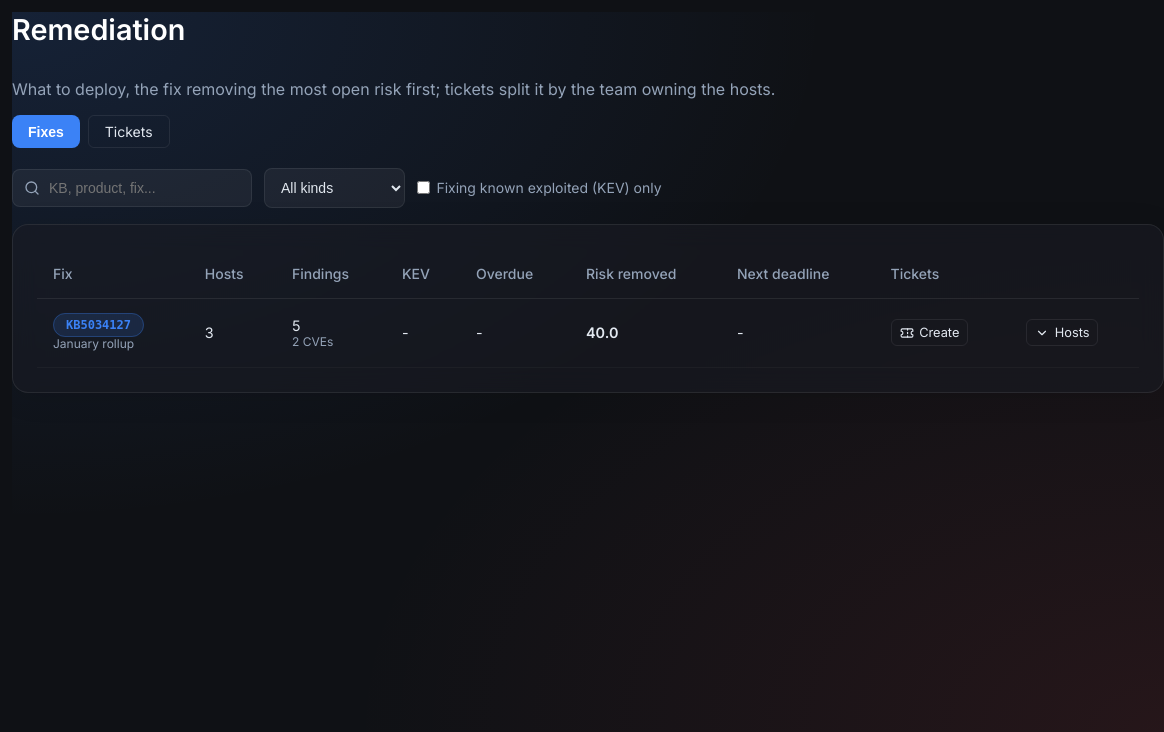
Scenario: Creating tickets from a fix › tickets the untracked findings and says for which teams
Click the button with aria-label "Create tickets for KB5034127": (929, 333) [890,319,968,346]
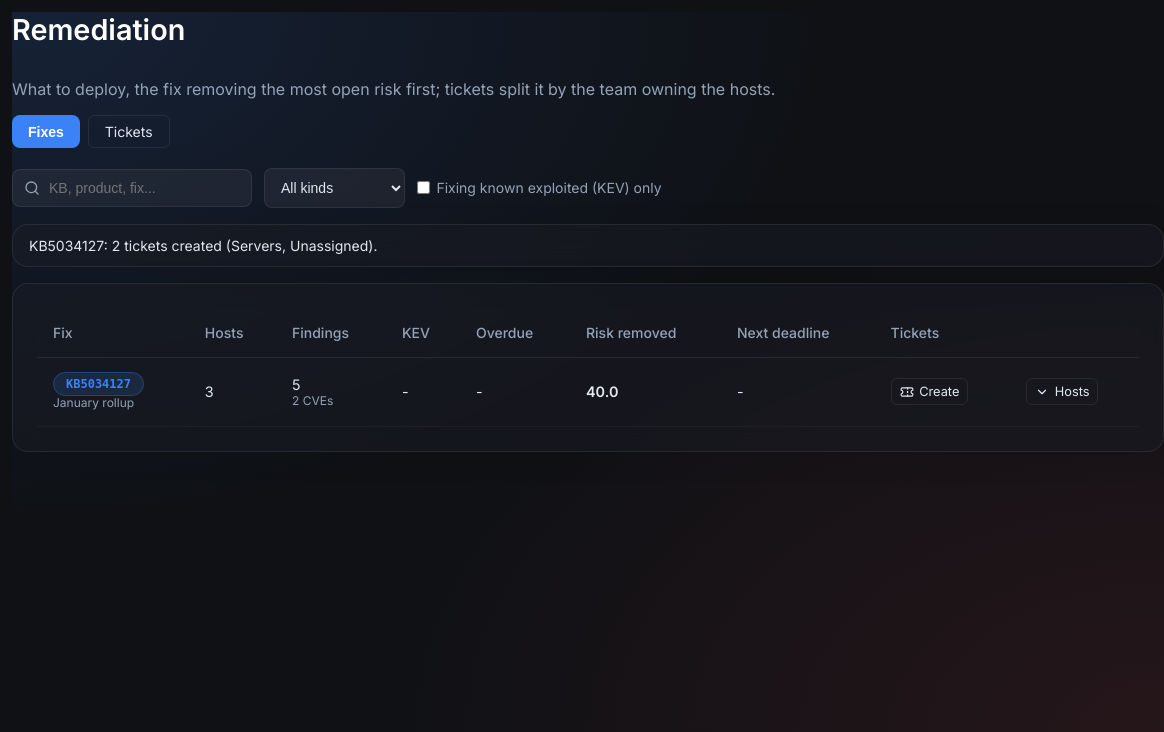
Now the text "KB5034127: 2 tickets created (Servers, Unassigned)." is shown, box [12,224,1163,267]
